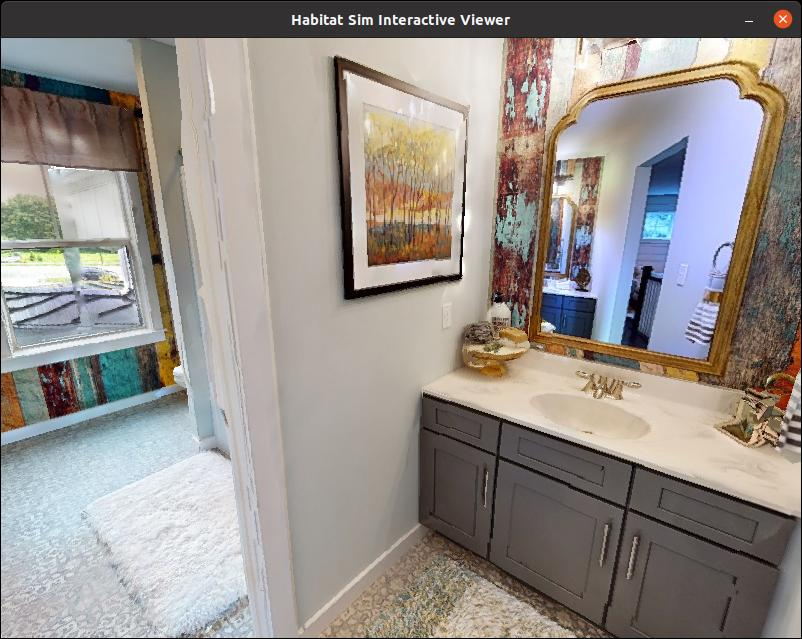door-frame: (0, 41, 307, 639)
sink: (439, 327, 756, 554)
